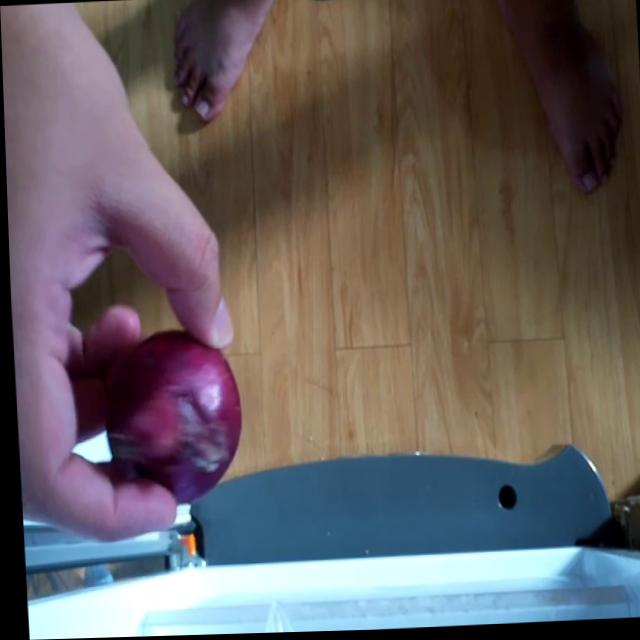onion: (69, 327, 241, 513)
